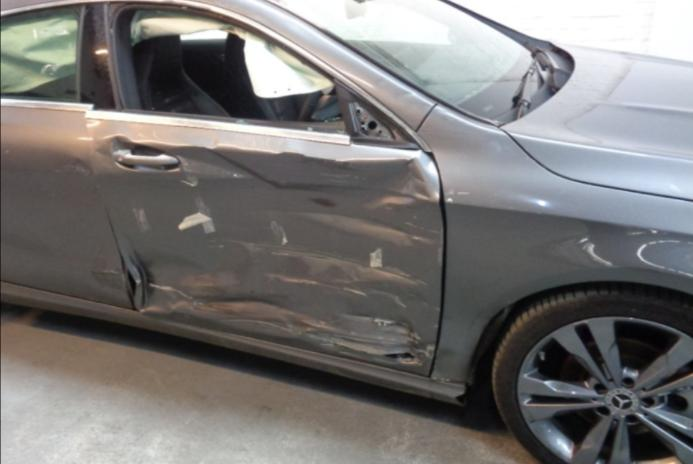Broken part: (84, 114, 453, 383), (454, 301, 513, 410), (75, 2, 124, 113)
Dent: (85, 249, 132, 308), (430, 347, 466, 380), (60, 159, 92, 187)
Missing part: (85, 0, 344, 134), (350, 94, 414, 145)
Paint chip: (414, 375, 467, 404)
Scratch: (225, 319, 290, 331), (149, 283, 192, 297), (407, 222, 438, 231), (345, 287, 365, 295)
